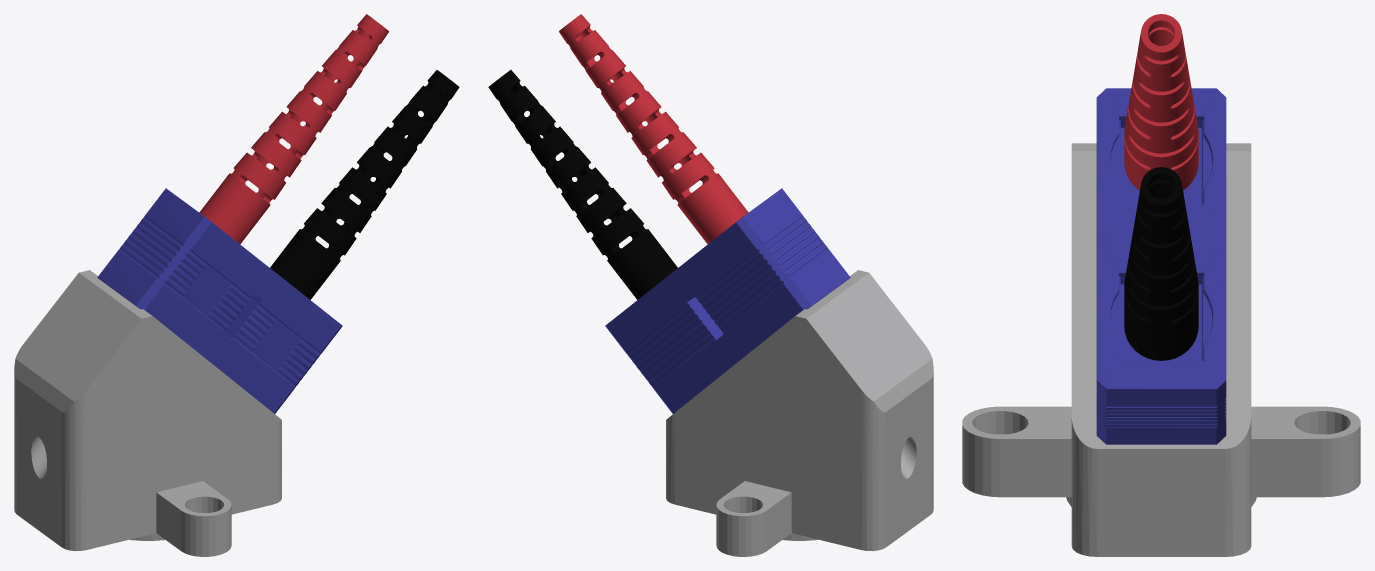
3 views of the same model, side by side, from view 1: azimuth 30°, elevation 25°; view 2: azimuth 150°, elevation 25°; view 3: azimuth 270°, elevation 25° (orthographic). The views are drawn at different scales.
Parts seen in each view (by area): view 1: my_object; view 2: my_object; view 3: my_object.
Part boxes in pixels (box(x1,y1,x2,y2)): my_object: box(14, 14, 459, 556); my_object: box(488, 14, 933, 556); my_object: box(962, 14, 1360, 556).
Bounding box in the file's own units: 53.67 × 54.35 × 31.04.
1 material, 1 textured.
